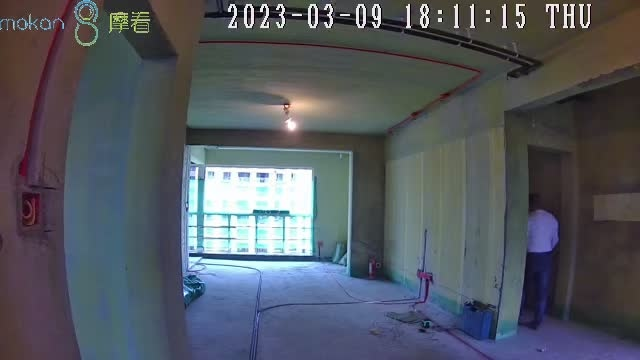people: (526, 193, 559, 329)
window: (203, 171, 313, 254)
